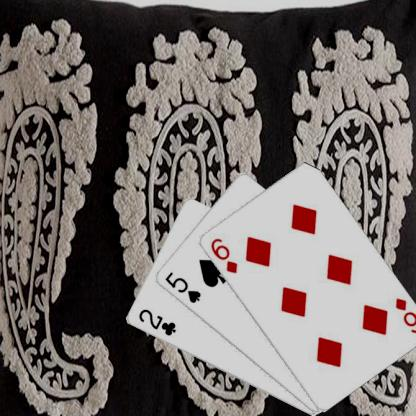2C: (135, 306, 177, 337)
5S: (162, 269, 202, 305)
6D: (208, 235, 238, 275), (392, 295, 416, 335)
